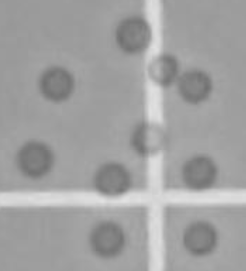cell: (9, 133, 57, 182), (127, 114, 175, 161), (88, 157, 135, 201), (35, 59, 79, 105), (110, 12, 154, 58), (176, 150, 220, 195), (178, 216, 220, 260), (85, 218, 127, 260), (174, 64, 216, 105), (144, 49, 184, 86)
